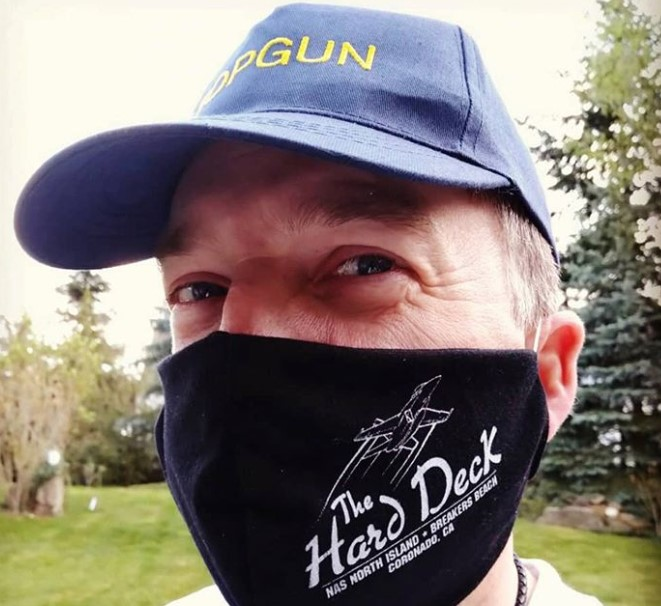face_with_mask: (146, 127, 587, 605)
